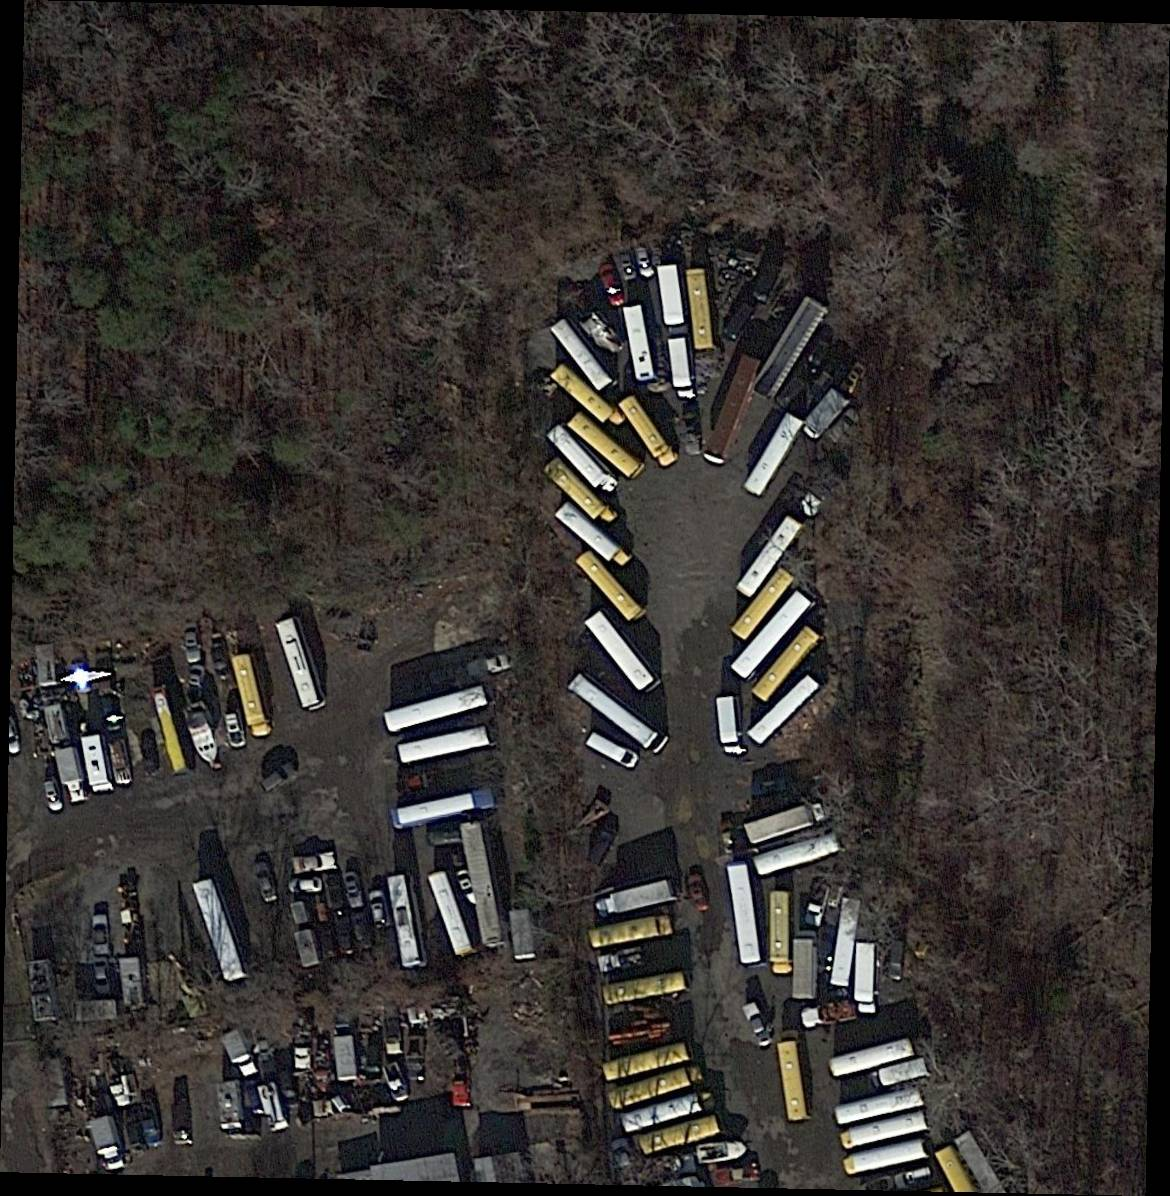large vehicle: (565, 669, 673, 760), (730, 590, 815, 681), (702, 354, 765, 467), (541, 419, 622, 500), (584, 612, 660, 696), (192, 878, 246, 983), (736, 515, 804, 600), (566, 412, 646, 482), (746, 675, 822, 748), (575, 549, 647, 625), (742, 412, 805, 498), (543, 458, 617, 530), (753, 626, 823, 703), (382, 686, 489, 735), (555, 502, 631, 570), (550, 364, 625, 432), (550, 318, 615, 391), (732, 568, 797, 639), (390, 788, 500, 829), (619, 395, 680, 470), (607, 1065, 702, 1112), (150, 683, 197, 777), (427, 870, 474, 958), (601, 1042, 695, 1085), (621, 1091, 712, 1135), (742, 802, 830, 847), (397, 726, 499, 764), (754, 833, 841, 877), (829, 1036, 916, 1079), (637, 1115, 722, 1158), (230, 653, 272, 739), (832, 1087, 924, 1126), (840, 1111, 930, 1151), (727, 862, 761, 966), (387, 874, 422, 969), (777, 1032, 810, 1124), (843, 1139, 927, 1176), (597, 881, 675, 920), (602, 971, 687, 1006), (800, 386, 854, 442), (589, 915, 673, 951), (830, 898, 862, 988), (685, 268, 716, 359), (865, 1053, 930, 1094), (622, 305, 655, 383), (220, 1027, 262, 1079), (855, 940, 885, 1015), (55, 742, 89, 805), (585, 731, 640, 771), (714, 696, 749, 756), (90, 1117, 127, 1170), (80, 734, 114, 793), (667, 337, 695, 401), (657, 265, 685, 327), (771, 889, 791, 972), (793, 935, 816, 999)
ship: (180, 701, 223, 771), (697, 1139, 750, 1166)
small vehicle: (738, 999, 776, 1049), (463, 649, 519, 683), (719, 301, 757, 345), (802, 880, 832, 929), (799, 340, 835, 380), (381, 1060, 412, 1104), (138, 1098, 165, 1148), (252, 861, 281, 905), (321, 874, 350, 918), (894, 1163, 939, 1191), (288, 850, 339, 874), (107, 737, 133, 784), (599, 261, 625, 307), (339, 870, 367, 910), (221, 708, 249, 749), (366, 889, 393, 931), (840, 359, 870, 395), (179, 621, 204, 664), (685, 873, 712, 912), (41, 778, 67, 814), (90, 913, 110, 958), (351, 910, 372, 950), (292, 1025, 311, 1068), (616, 248, 639, 282), (93, 960, 112, 999), (634, 245, 656, 280), (186, 664, 206, 701), (288, 876, 325, 894), (336, 918, 354, 956)
